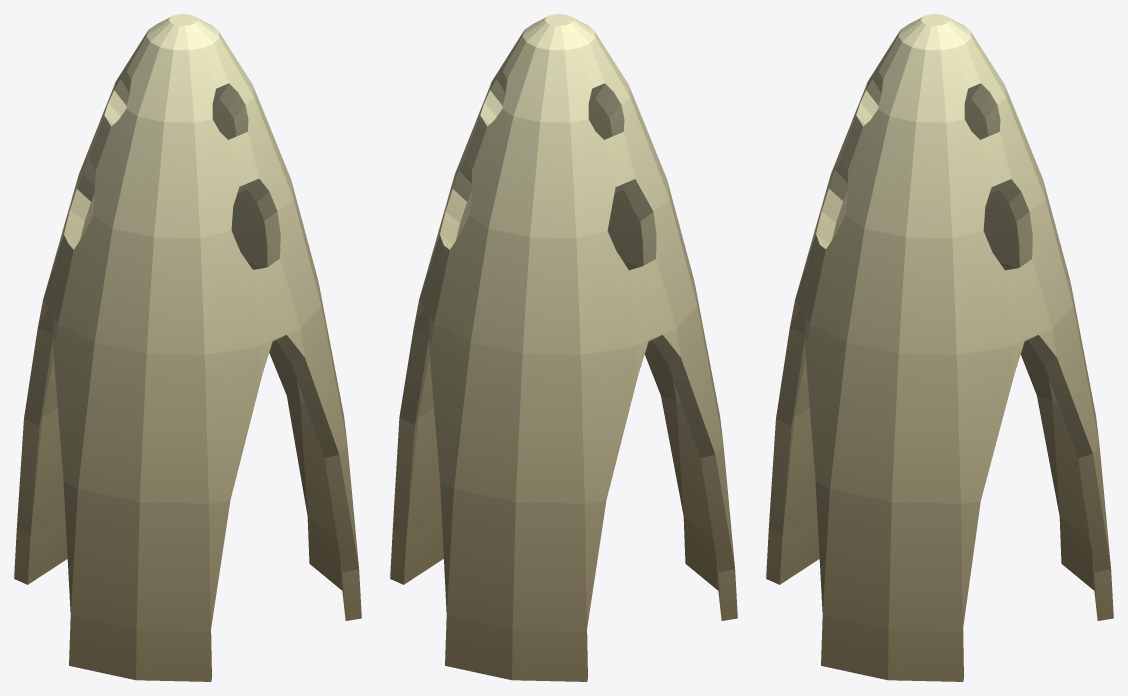
The model's file is Spawn.fbx.
3 renders of one model, left to right at view 1: azimuth 30°, elevation 25°; view 2: azimuth 150°, elevation 25°; view 3: azimuth 270°, elevation 25°, orthographic.
Visible parts, largest first — view 1: Spawn_Mesh; view 2: Spawn_Mesh; view 3: Spawn_Mesh.
Part boxes in pixels (x1,y1,x2,y2): Spawn_Mesh: (14, 14, 361, 681); Spawn_Mesh: (390, 14, 737, 681); Spawn_Mesh: (766, 14, 1113, 681).
Size of the model in its own units: 1083 by 2021 by 1082.
